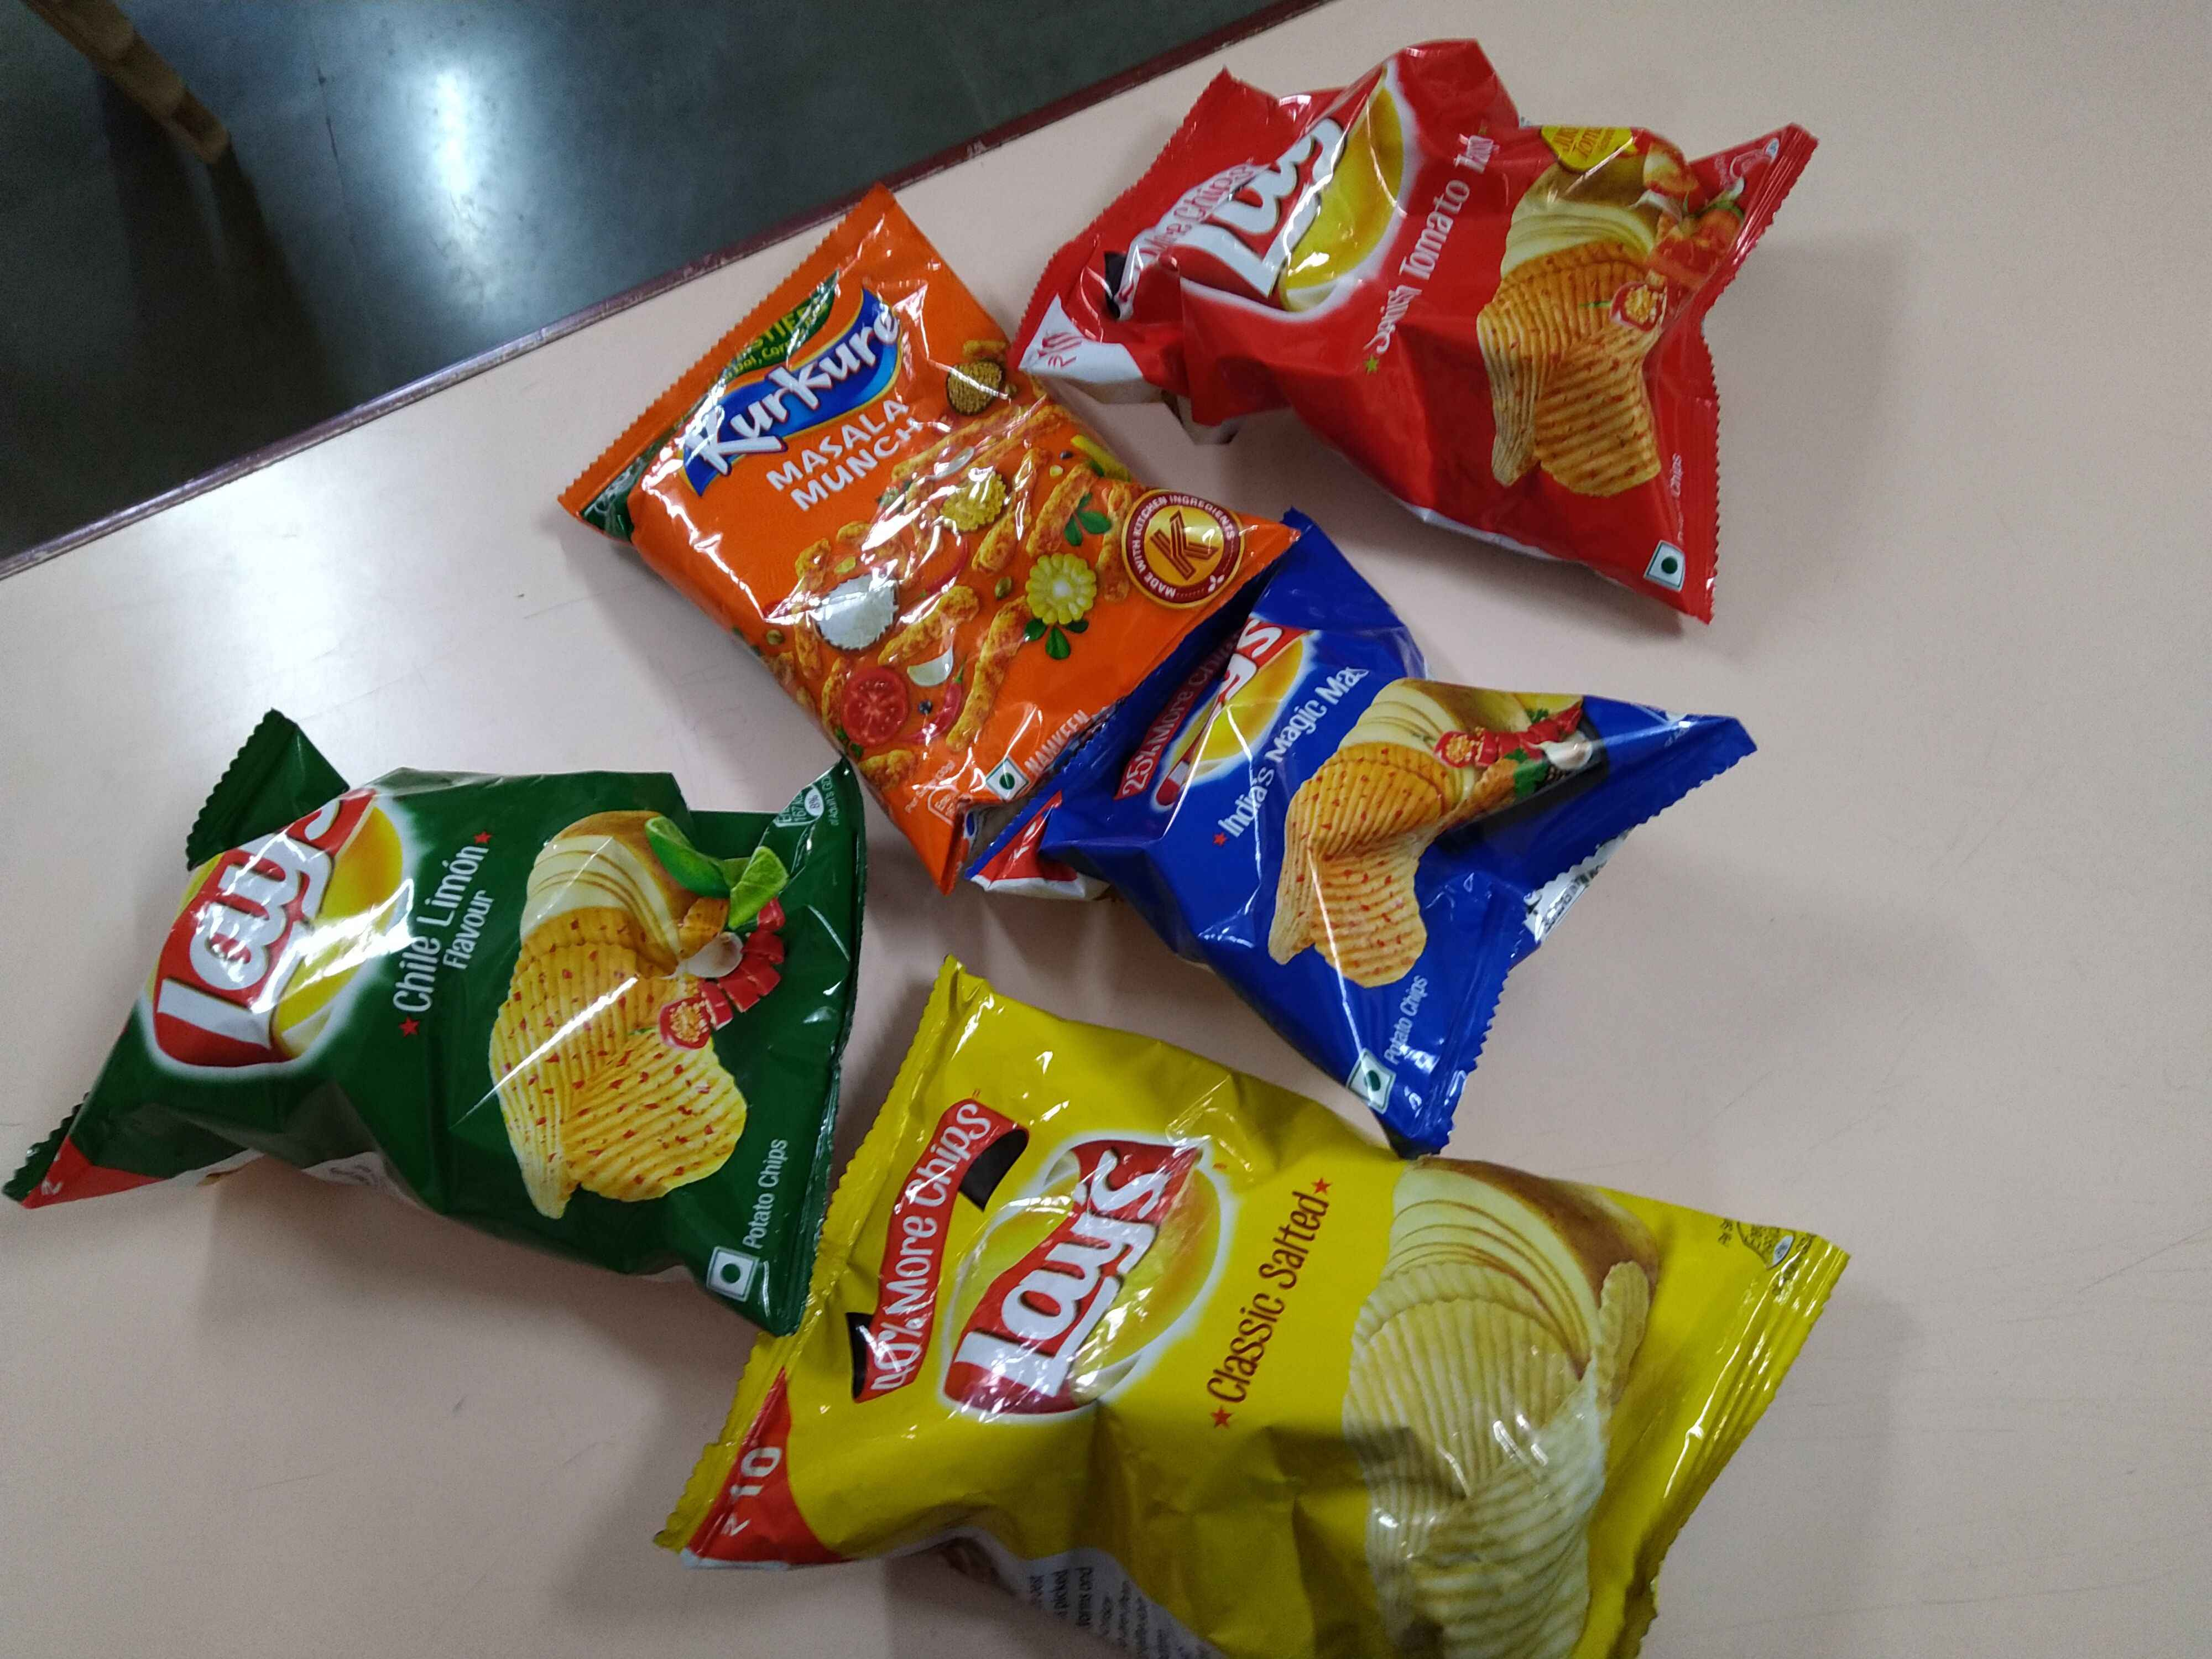Lays: (953, 1122, 1224, 1439), (146, 788, 399, 1066), (1144, 71, 1425, 307), (1139, 606, 1332, 821)
kurkure: (674, 275, 913, 502)
